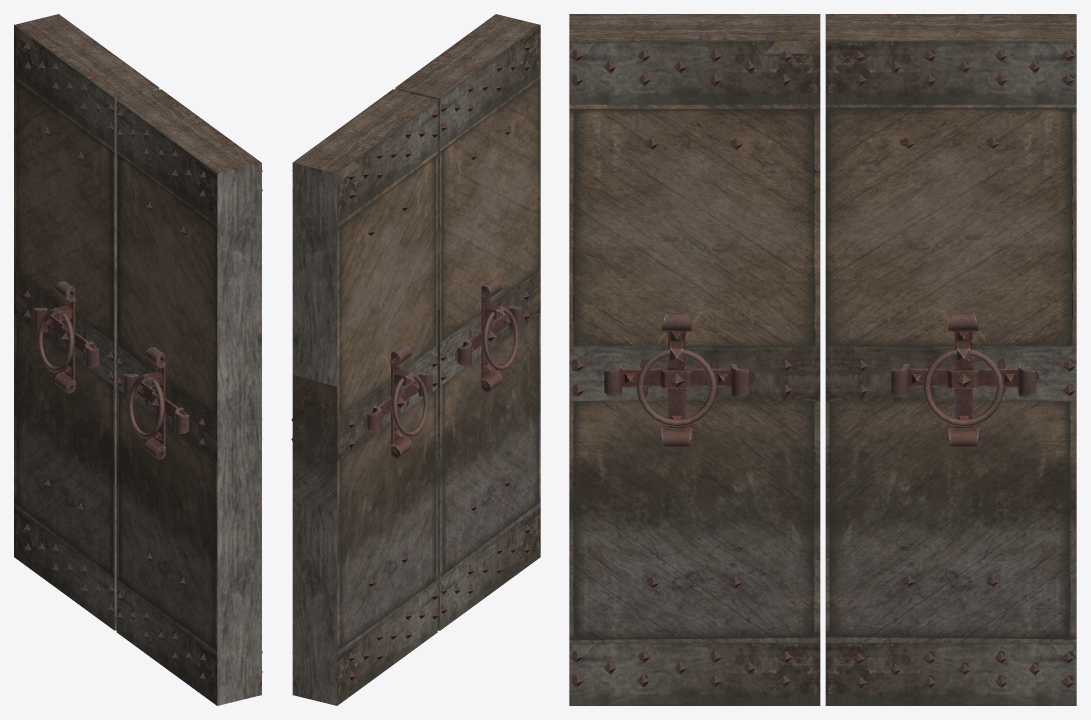
The model's file is IronBreakableDoor7.fbx.
3 renders of one model, left to right at view 1: azimuth 30°, elevation 25°; view 2: azimuth 150°, elevation 25°; view 3: azimuth 270°, elevation 25°, orthographic. The views are drawn at different scales.
Visible parts, largest first — view 1: Box002_Part_013, Box002_Part_010, Box002_Part_014, Box002_Part_6, Box002_Part_009, Box002_Part_7, Box002_Part_008, Box002_Part_4, Box002_Part_1, Box002_Part_3, Box002_Part_2, Box002_Part_012 (+2 smaller); view 2: Box002_Part_7, Box002_Part_6, Box002_Part_4, Box002_Part_013, Box002_Part_014, Box002_Part_1, Box002_Part_008, Box002_Part_010, Box002_Part_3, Box002_Part_2, Box002_Part_012, Box002_Part_009 (+2 smaller); view 3: Box002_Part_6, Box002_Part_013, Box002_Part_014, Box002_Part_7, Box002_Part_011, Box002_Part_3, Box002_Part_010, Box002_Part_009, Box002_Part_008, Box002_Part_2, Box002_Part_5, Box002_Part_1 (+2 smaller).
Part boxes in pixels (box(x1,y1,x2,y2)): Box002_Part_013: box(115, 312, 262, 481); Box002_Part_010: box(141, 469, 261, 666); Box002_Part_014: box(116, 440, 262, 705); Box002_Part_6: box(14, 238, 116, 404); Box002_Part_009: box(155, 201, 261, 374); Box002_Part_7: box(14, 360, 116, 630); Box002_Part_008: box(142, 102, 262, 235); Box002_Part_4: box(14, 35, 75, 238); Box002_Part_1: box(32, 33, 159, 160); Box002_Part_3: box(40, 401, 116, 586); Box002_Part_2: box(49, 137, 116, 303); Box002_Part_012: box(116, 89, 181, 251); Box002_Part_7: box(292, 502, 438, 705); Box002_Part_6: box(291, 305, 438, 511); Box002_Part_4: box(292, 167, 398, 386); Box002_Part_013: box(437, 225, 540, 439); Box002_Part_014: box(437, 437, 540, 630); Box002_Part_1: box(319, 89, 438, 216); Box002_Part_008: box(413, 14, 540, 136); Box002_Part_010: box(465, 333, 540, 517); Box002_Part_3: box(363, 407, 437, 587); Box002_Part_2: box(372, 139, 437, 335); Box002_Part_012: box(395, 74, 504, 206); Box002_Part_009: box(478, 65, 540, 254); Box002_Part_6: box(825, 271, 1076, 489); Box002_Part_013: box(569, 275, 820, 486); Box002_Part_014: box(569, 460, 820, 705); Box002_Part_7: box(825, 465, 1076, 705); Box002_Part_011: box(666, 50, 820, 306); Box002_Part_3: box(825, 425, 1014, 656); Box002_Part_010: box(569, 423, 754, 649); Box002_Part_009: box(569, 90, 732, 296); Box002_Part_008: box(569, 14, 775, 151); Box002_Part_2: box(825, 92, 980, 291); Box002_Part_5: box(914, 14, 1076, 176); Box002_Part_1: box(825, 14, 1032, 148).
Size of the model in its own units: 14.63 by 81.73 by 56.56.
Materials: 1 (1 with a texture image).
